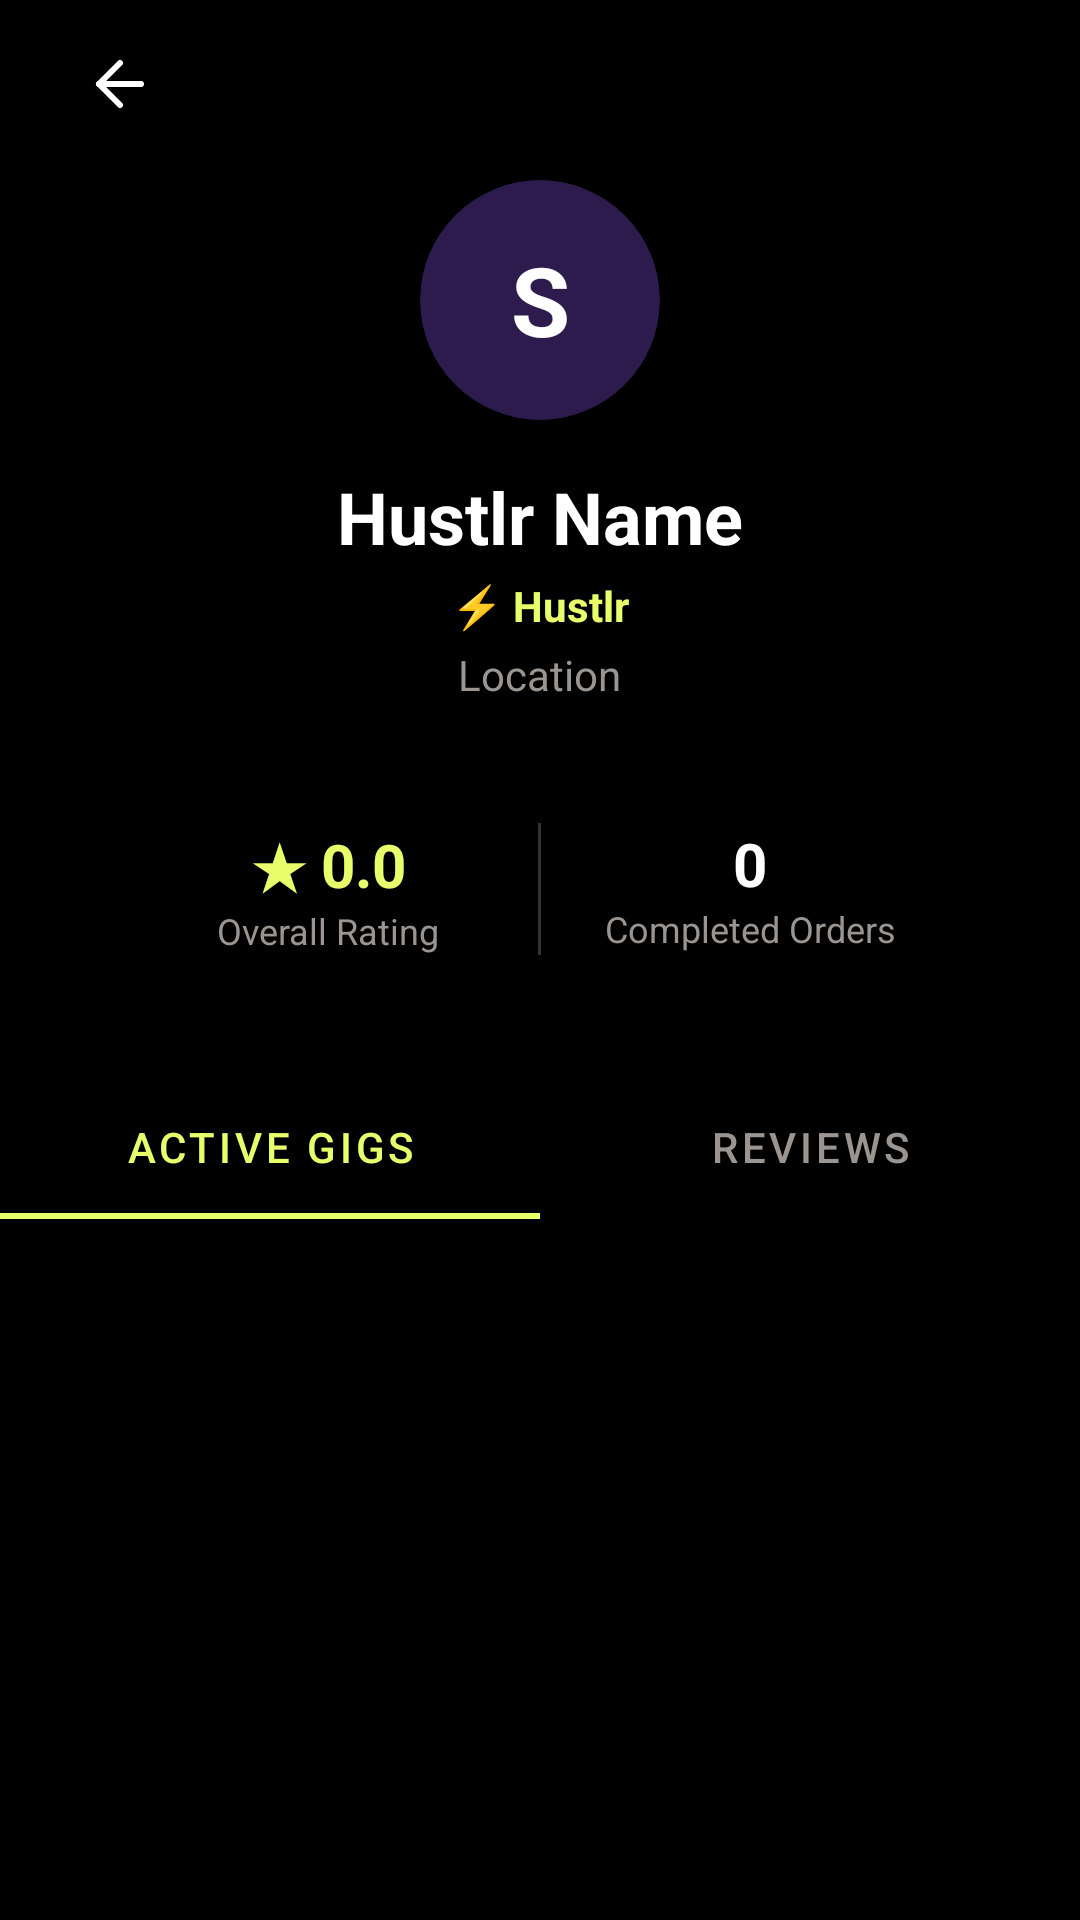

Named icons in this screenshot (1080*1920) and their centers, [x,y]:
back: [120,84]
